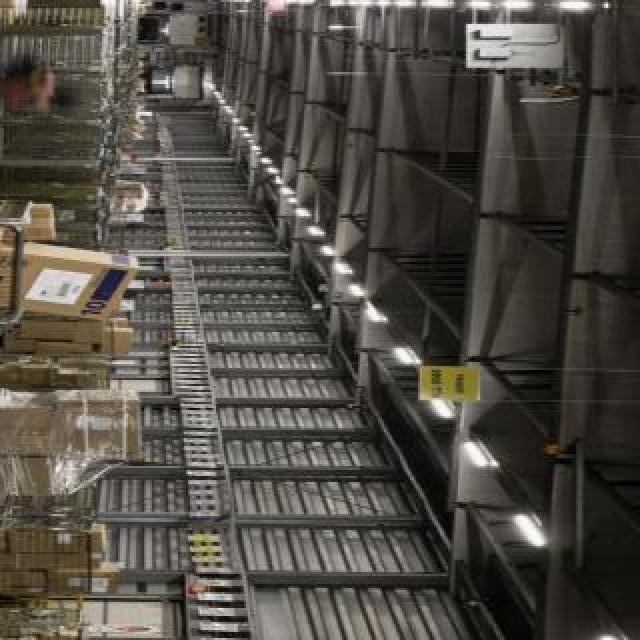fluorescent tube: (497, 498, 547, 566), (457, 431, 499, 471), (420, 385, 460, 423), (384, 335, 412, 378), (353, 297, 391, 326), (558, 0, 598, 22), (327, 262, 360, 287), (340, 280, 375, 302), (498, 0, 540, 18), (464, 0, 496, 20), (420, 0, 460, 16)
